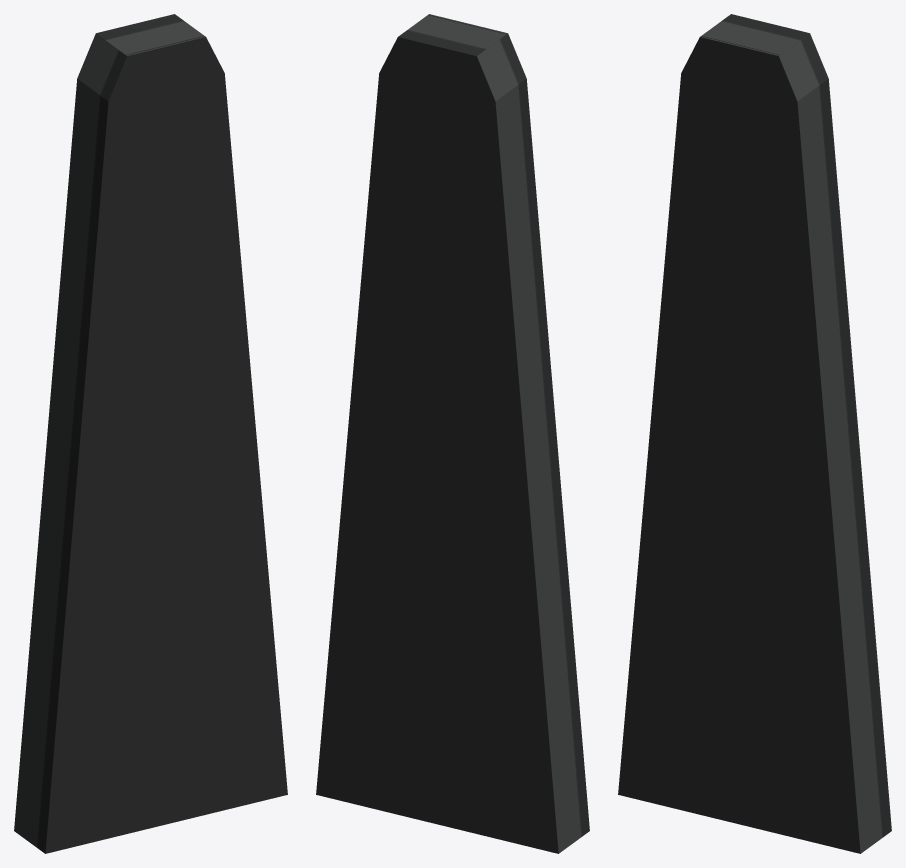
The model's file is ganymedePillar.obj.
3 renders of one model, left to right at view 1: azimuth 30°, elevation 25°; view 2: azimuth 150°, elevation 25°; view 3: azimuth 330°, elevation 25°, orthographic.
Parts seen in each view (by area): view 1: Cube.002; view 2: Cube.002; view 3: Cube.002.
Part boxes in pixels (x1,y1,x2,y2): Cube.002: (14,14,287,853); Cube.002: (316,14,589,853); Cube.002: (618,14,891,853).
Bounding box in the file's own units: 1.34 × 4.11 × 0.2999.
Materials: 1 (1 with a texture image).
